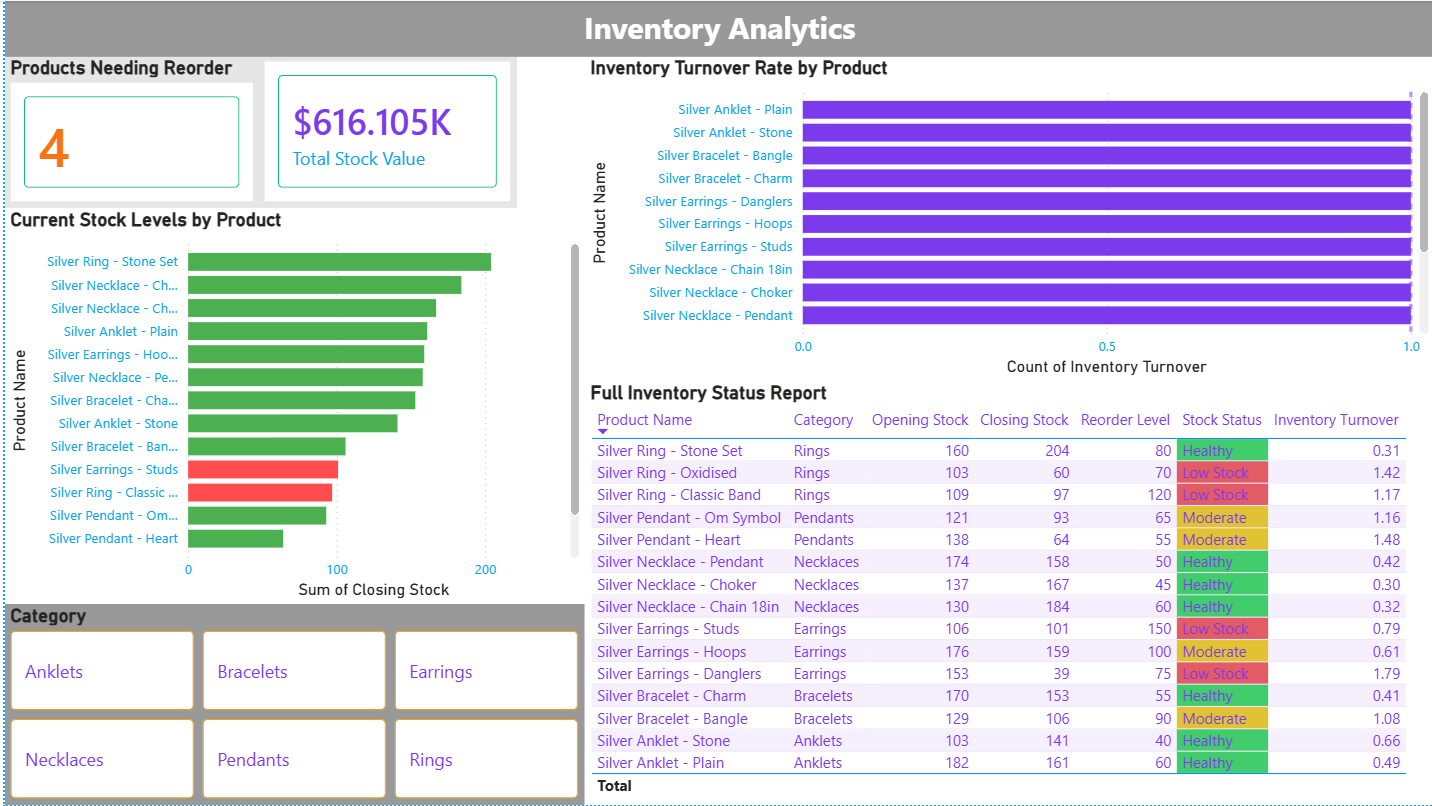

The dashboard page shown, as its layout file describes it:
{"tool":"powerbi","page":{"name":"Inventory Analytics","canvas":[1280,720],"ordinal":2},"visuals":[{"type":"clusteredBarChart","title":"Current Stock Levels by Product","fields":{"Category":["Inventory.Product Name"],"Y":["Sum(Inventory.Closing Stock)"]},"box":[0,185.2,519.5,354.9],"z":0},{"type":"cardVisual","title":"Products Needing Reorder","fields":{"Data":["_Measures.Low Stock Items"]},"box":[0,49.7,227.6,135.6],"z":1000},{"type":"cardVisual","fields":{"Data":["_Measures.Total Stock Value"]},"box":[227.6,49.7,230.8,135.6],"z":2000},{"type":"clusteredBarChart","title":"Inventory Turnover Rate by Product","fields":{"Y":["CountNonNull(Inventory.Inventory Turnover)"],"Category":["Inventory.Product Name"]},"box":[519.5,49.7,760.5,290.8],"z":3000},{"type":"tableEx","title":"Full Inventory Status Report","fields":{"Values":["Inventory.Product Name","Inventory.Category","Inventory.Opening Stock","Inventory.Closing Stock","Inventory.Reorder Level","Inventory.Stock Status","Inventory.Inventory Turnover"]},"box":[519.3,340.7,760.7,379.9],"z":4000},{"type":"advancedSlicerVisual","fields":{"Values":["Inventory.Category"]},"box":[0,540.1,519.5,180],"z":5000},{"type":"textbox","box":[0,0,1280,49.7],"z":6000}]}

Visuals, with their boxes in screenshot pixels (x1, y1, x2, y2), scaled from the page's 1280x720 canvas onto the 1432x806 screenshot:
"Current Stock Levels by Product" clusteredBarChart: region(0, 207, 581, 605)
"Products Needing Reorder" cardVisual: region(0, 56, 255, 207)
cardVisual - _Measures.Total Stock Value: region(255, 56, 513, 207)
"Inventory Turnover Rate by Product" clusteredBarChart: region(581, 56, 1431, 381)
"Full Inventory Status Report" tableEx: region(581, 381, 1431, 805)
advancedSlicerVisual - Inventory.Category: region(0, 605, 581, 805)
textbox: region(0, 0, 1431, 56)
